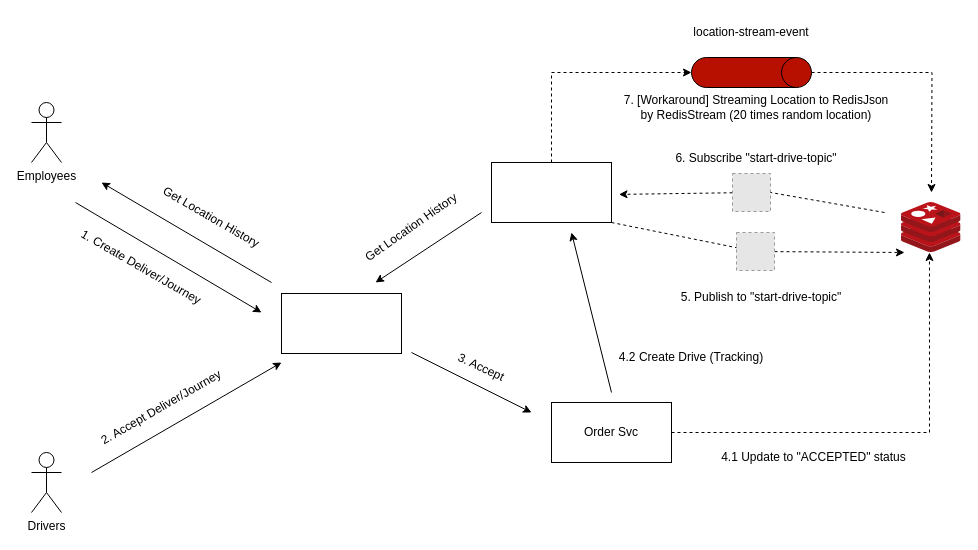
The diagram is 978 pixels wide and 550 high, and some of its shapes have lost their labels. Grey dashed boxes stand in for pictures. Here are the shapes that lost their labels. From the top down, the centre of each, then its label:
At (551,192): "Location Svc".
At (341,323): "Driver Svc".
